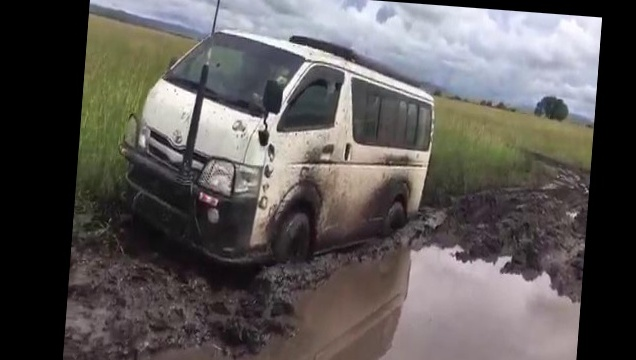van: (115, 16, 443, 271)
